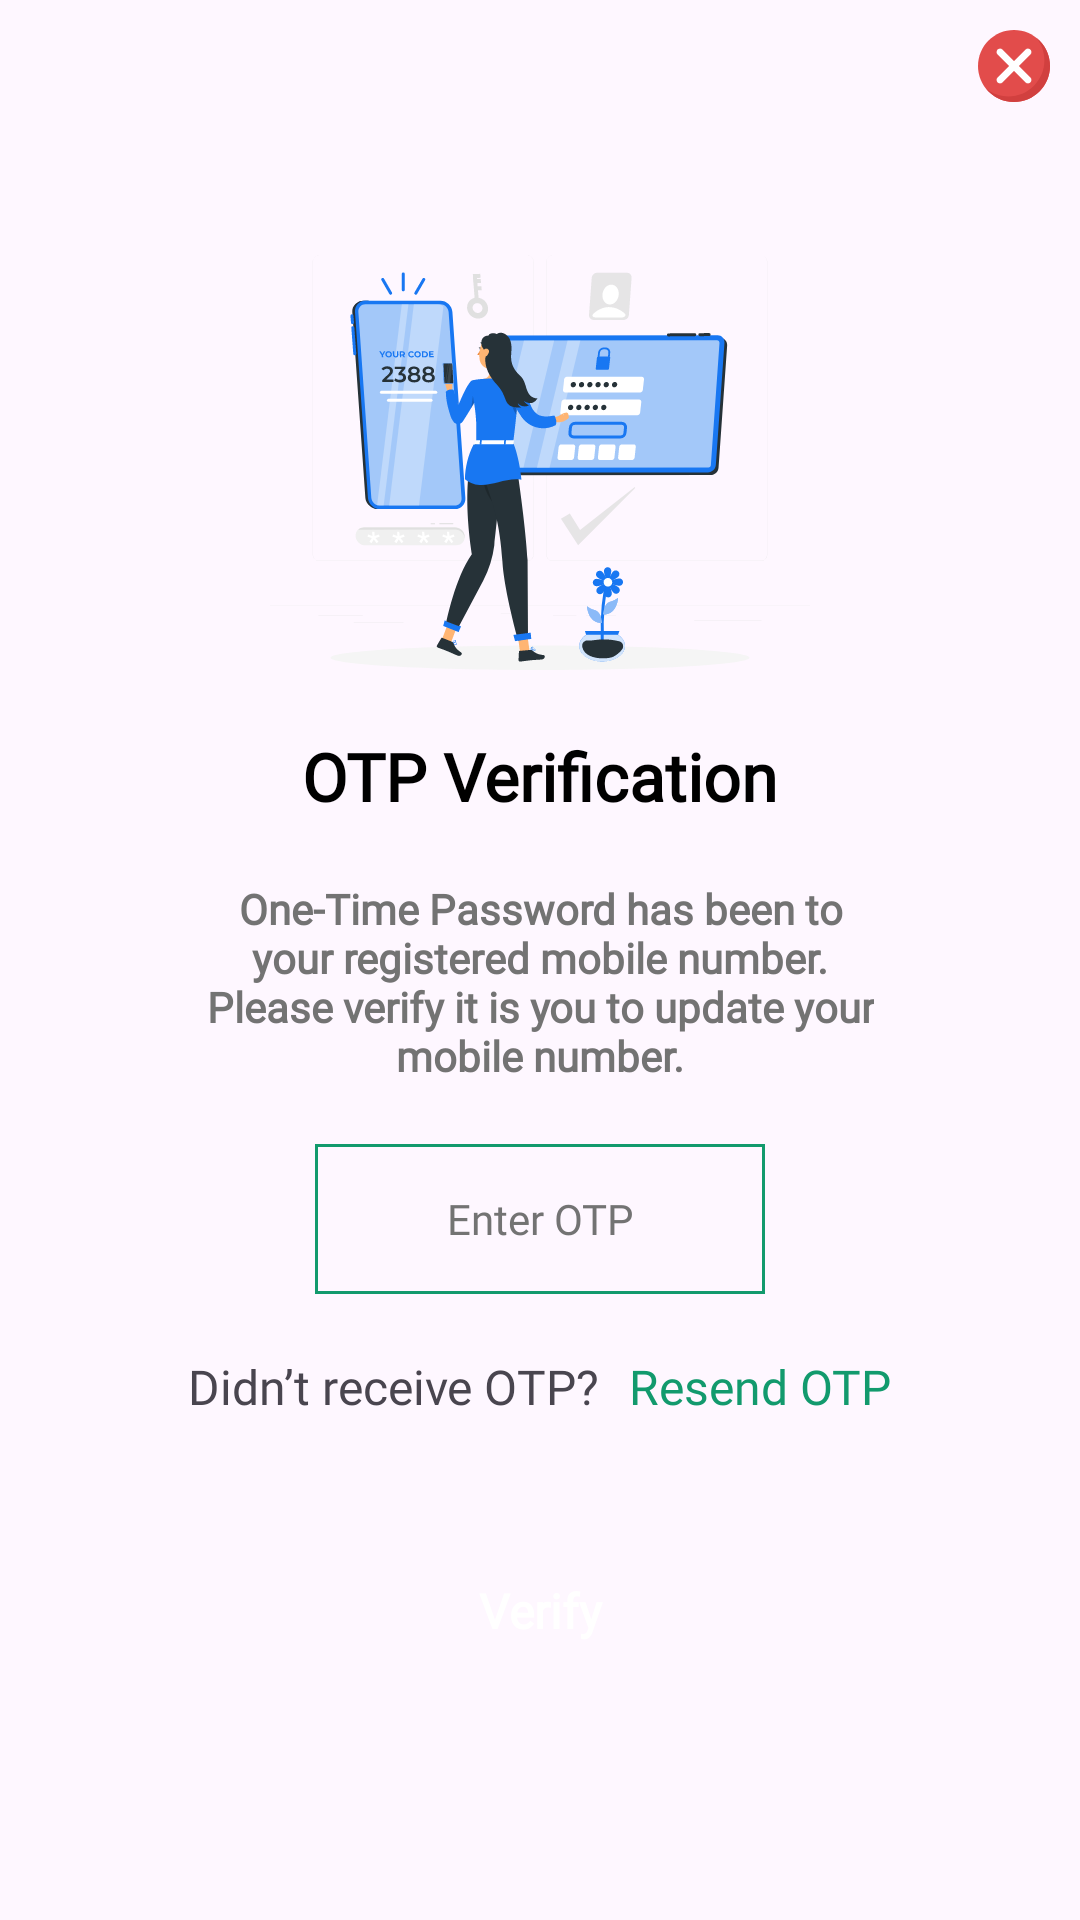

Named icons in this screenshot (1080 × 1920) and their centers, [x,y]:
cancel: [1014,66]
